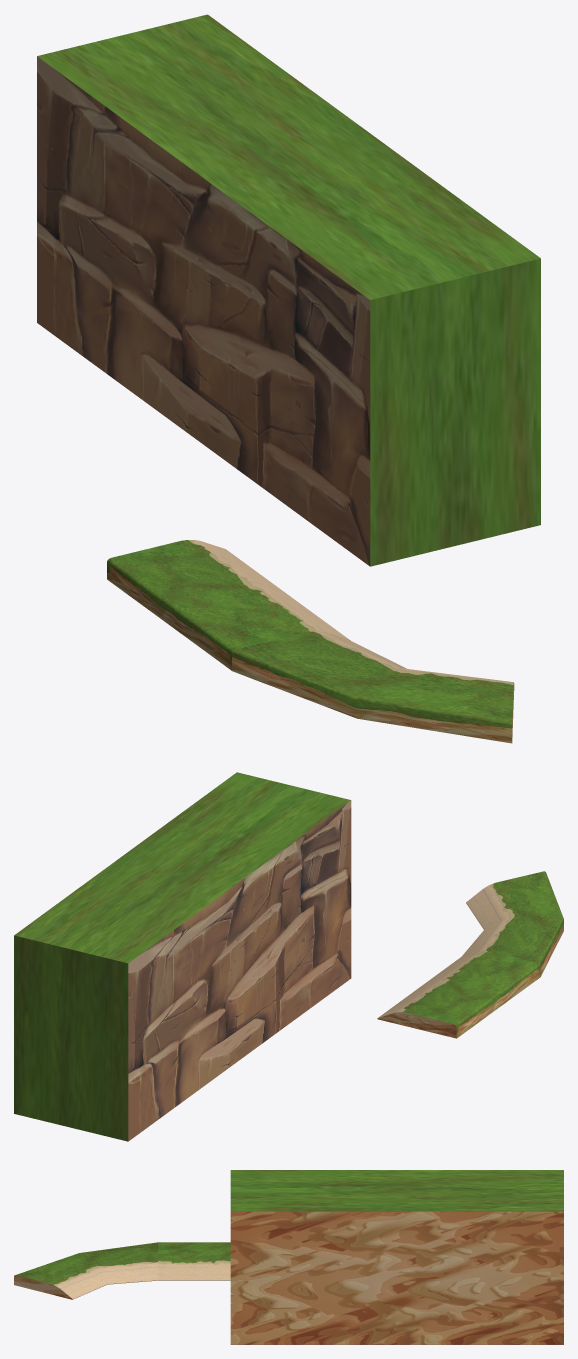
The model's file is suelo y muros.FBX.
3 views of the same model, one above another, from view 1: azimuth 30°, elevation 25°; view 2: azimuth 150°, elevation 25°; view 3: azimuth 270°, elevation 25° (orthographic). The views are drawn at different scales.
Visible parts, largest first — view 1: Box005, Box004, Box003; view 2: Box005, Box003, Box004; view 3: Box005, Box004, Box003.
Boxes of the visible parts, x1=… form: Box005: x1=37, y1=14, x2=540, y2=566; Box004: x1=232, y1=631, x2=514, y2=743; Box003: x1=107, y1=540, x2=350, y2=670; Box005: x1=14, y1=772, x2=351, y2=1141; Box003: x1=377, y1=951, x2=540, y2=1038; Box004: x1=461, y1=871, x2=563, y2=976; Box005: x1=230, y1=1170, x2=563, y2=1344; Box004: x1=14, y1=1242, x2=158, y2=1299; Box003: x1=158, y1=1242, x2=230, y2=1280.
Size of the model in its own units: 328 by 219 by 820.
Materials: 2 (2 with a texture image).
